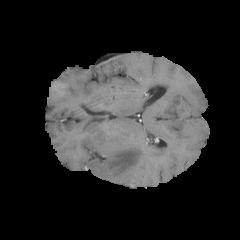glioma: (82, 135, 144, 180)
